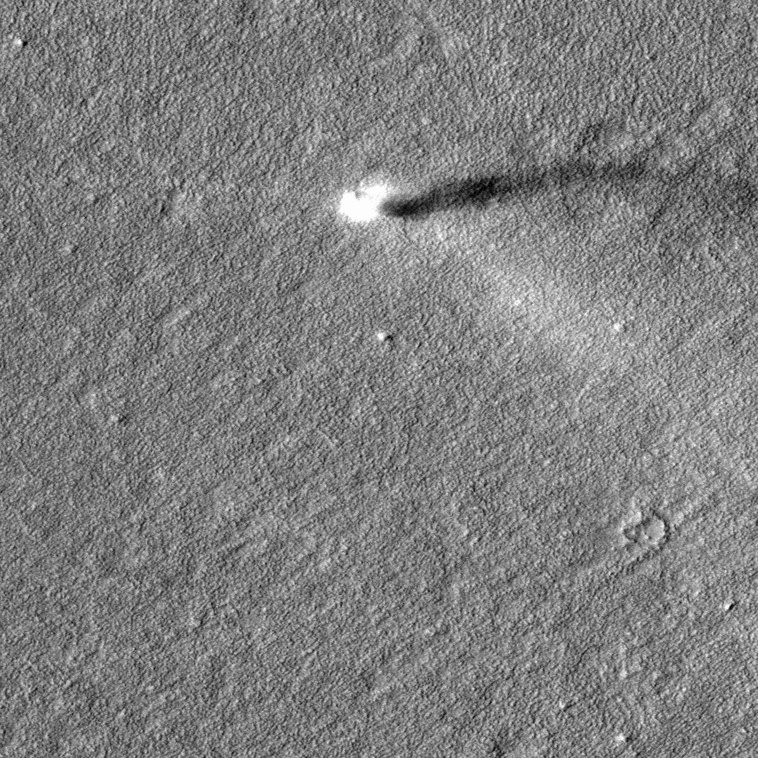dust_devil: (336, 155, 758, 229)
